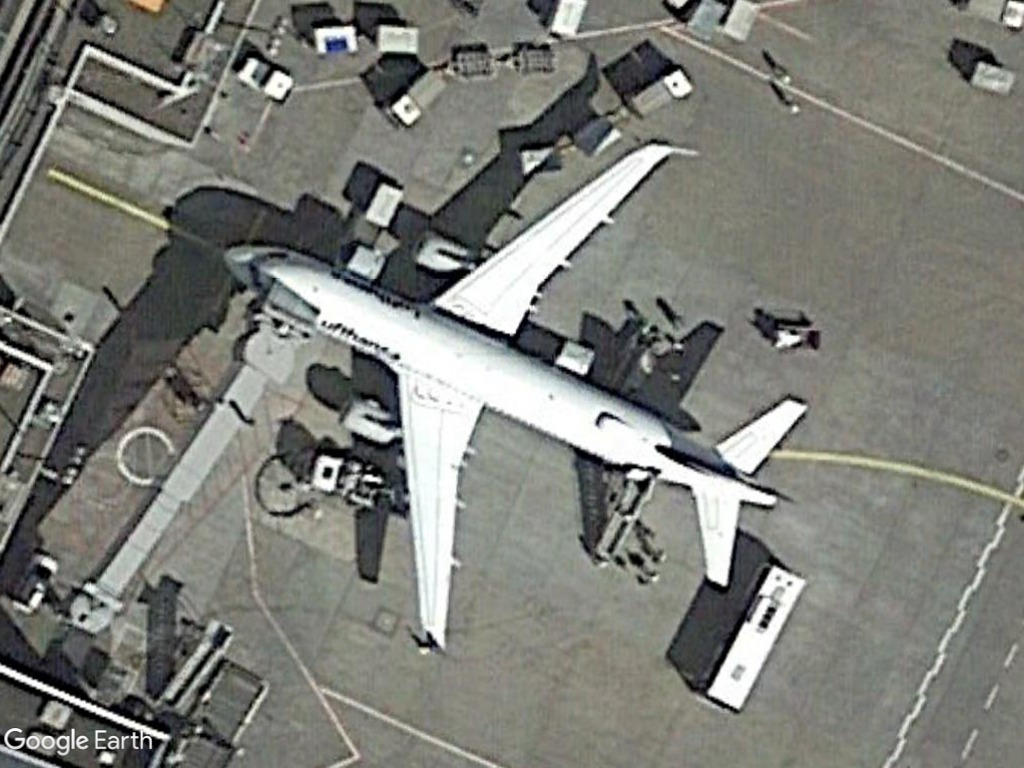airliner: (215, 135, 808, 662)
bus: (700, 565, 809, 720)
